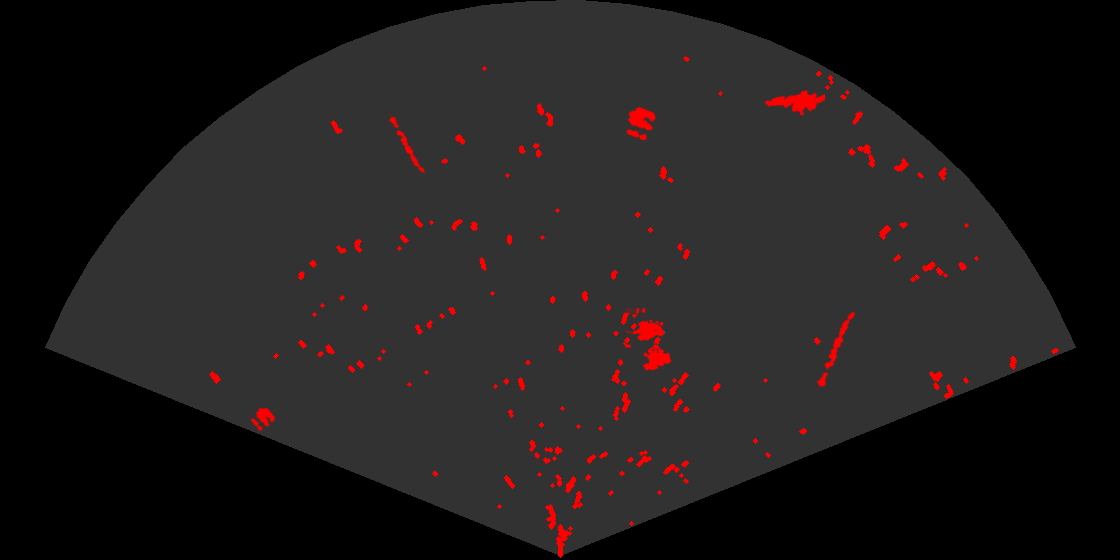ball: (624, 105, 658, 142), (249, 406, 277, 433)
cage: (625, 308, 673, 373)
chain: (815, 310, 857, 390), (386, 113, 428, 182)
frogman: (763, 89, 825, 117)
